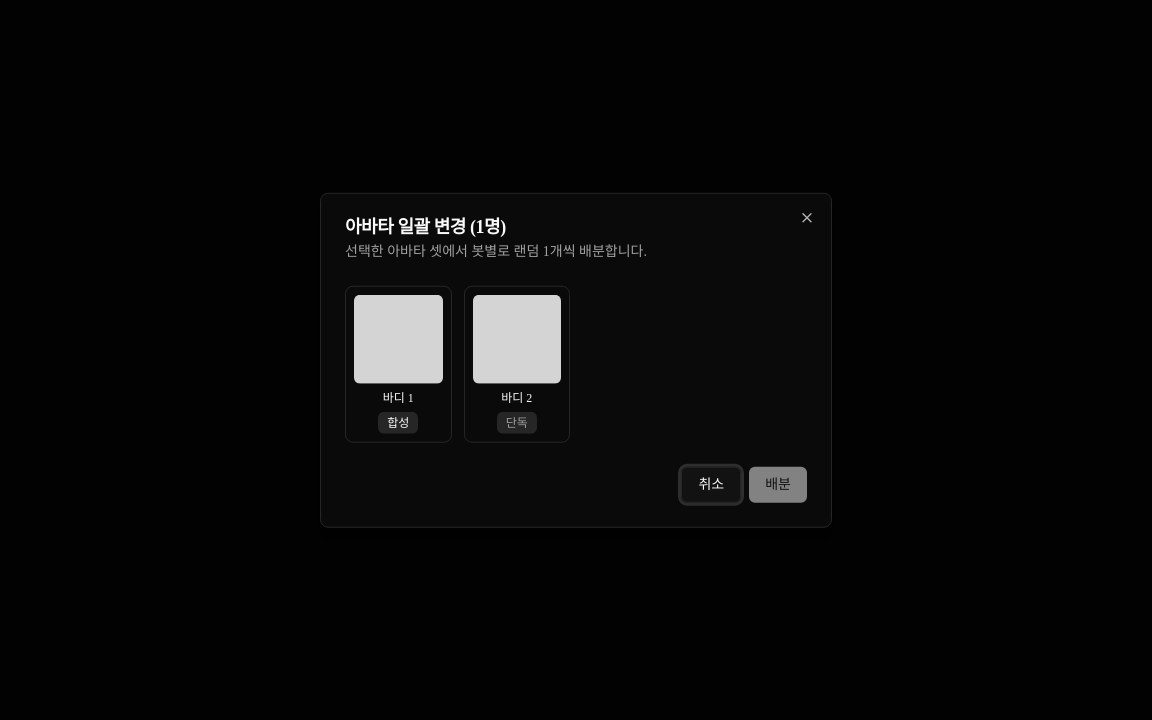
Test: DistributeAvatarsDialog › 성공 후에도 결과 표기 동안 다이얼로그 유지(닫기는 사용자)
Expected: the text "바디 1" is shown, [383,390,414,404]
What coordinates should you click on to do the following:
click the button "바디 1 합성"
I would click on:
 (398, 364)
Its box is [345,286,452,442].
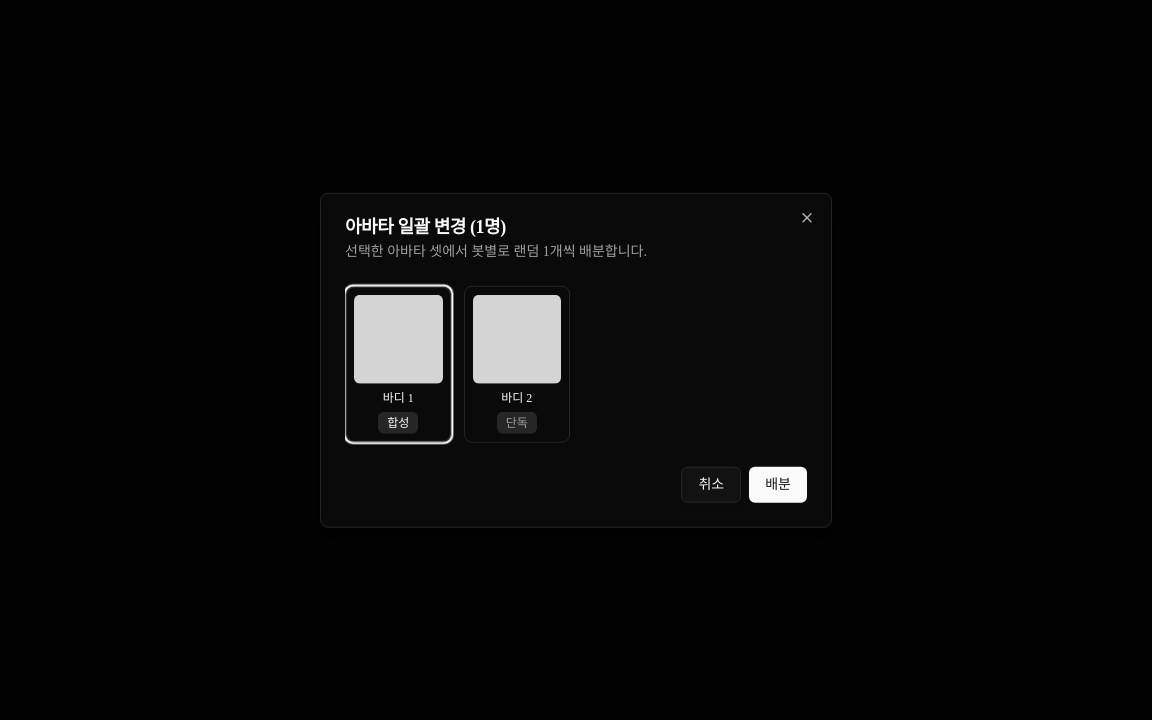
What coordinates should you click on to do the following:
click the button "배분"
I would click on:
 (778, 484)
Its box is [749,466,807,502].
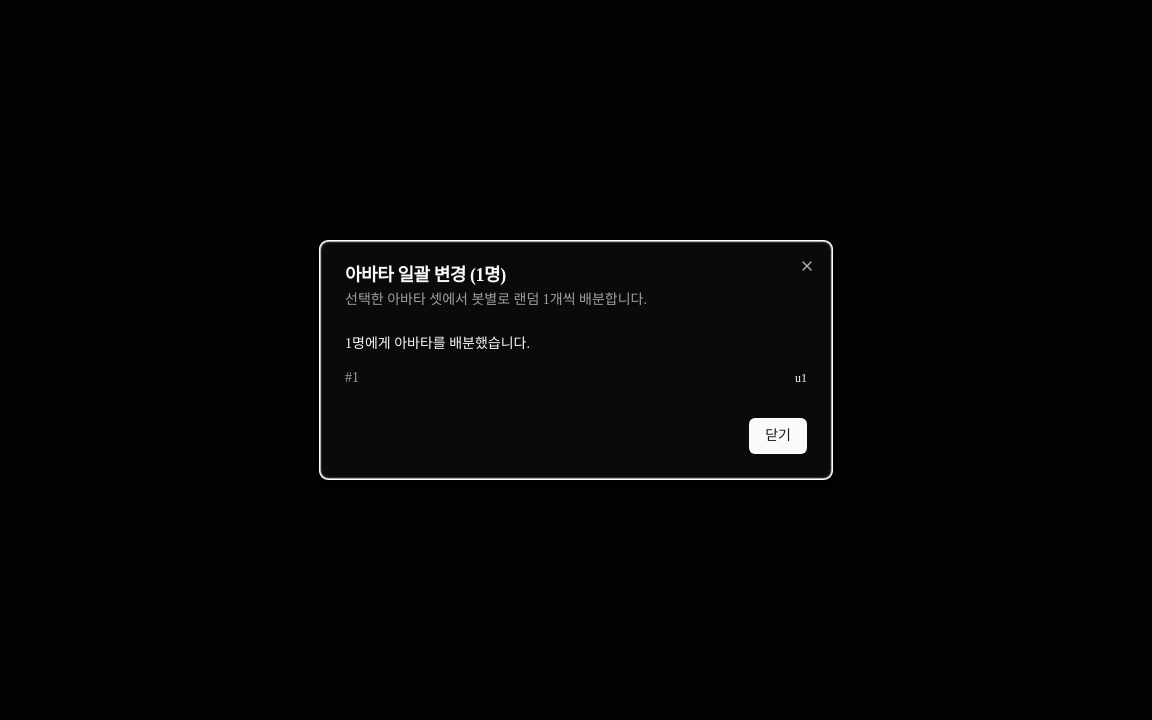
Result: the text "1명에게 아바타를 배분했습니다." is shown at [345,336,530,351]
